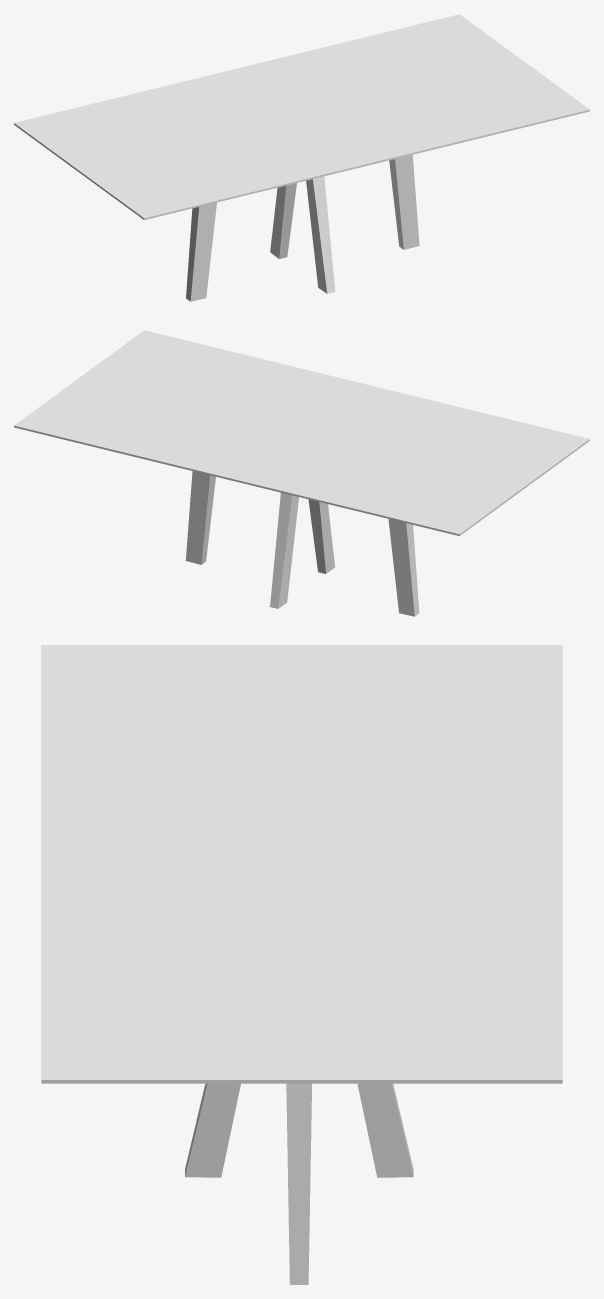
File: purewhite_recta_facet_searwalnut.glb
The picture shows the model from 3 angles, top to bottom: view 1: azimuth 30°, elevation 25°; view 2: azimuth 150°, elevation 25°; view 3: azimuth 270°, elevation 25°; orthographic projection. The views are drawn at different scales.
Visible parts, largest first — view 1: facet_recta, searwalnut; view 2: facet_recta, searwalnut; view 3: facet_recta, searwalnut.
Boxes of the visible parts, left/top/right/bottom form: facet_recta: left=14, top=14, right=589, bottom=219; searwalnut: left=186, top=155, right=419, bottom=301; facet_recta: left=14, top=330, right=589, bottom=535; searwalnut: left=185, top=471, right=419, bottom=616; facet_recta: left=41, top=645, right=562, bottom=1083; searwalnut: left=185, top=1083, right=413, bottom=1284.
Bounding box in the file's own units: 7.5 × 2.5 × 3.8.
Materials: 1 (1 with a texture image).
